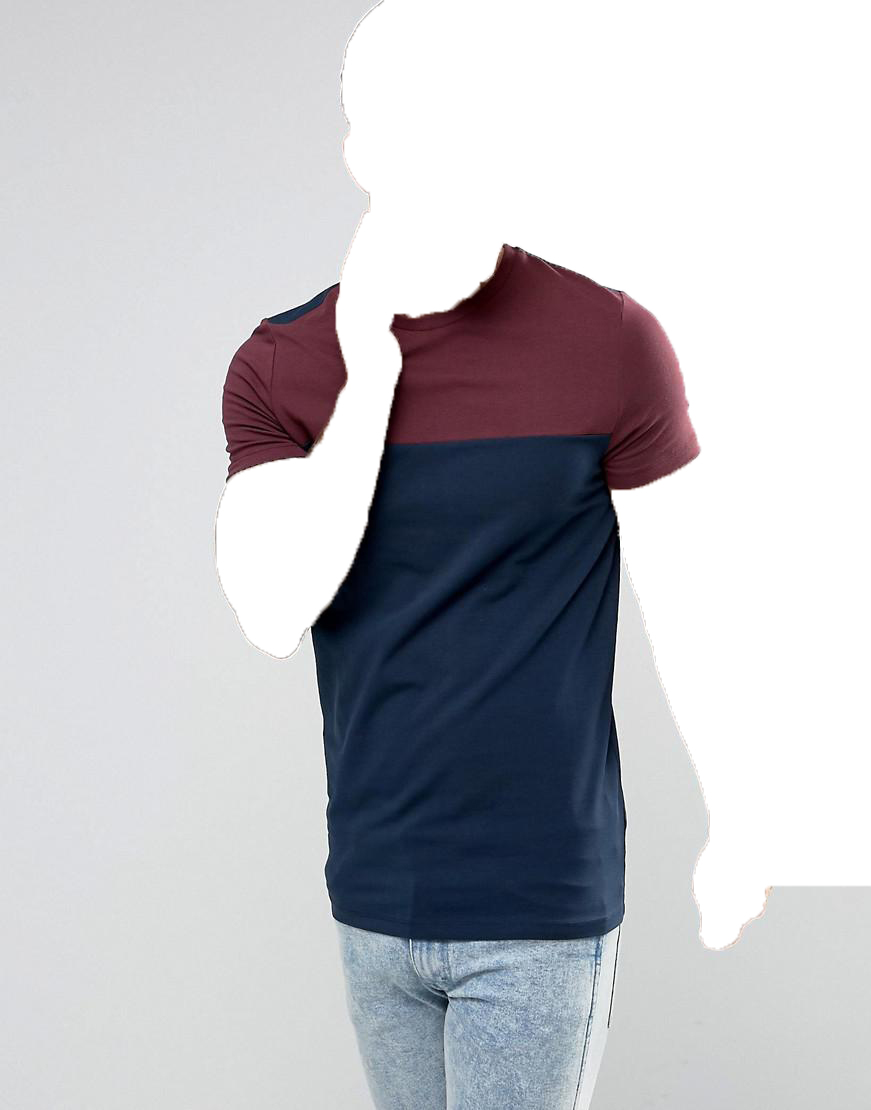teeshirt: (218, 246, 722, 946)
